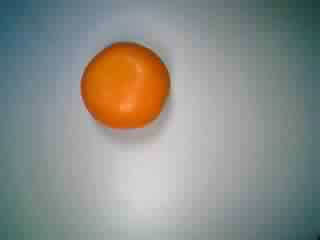orange: (79, 42, 180, 131)
